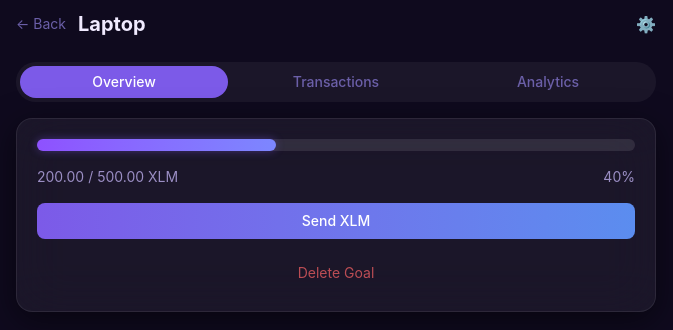
Scenario: GoalDetailPage › Transactions sekmesine geçince TransactionHistory render olur
This screenshot has width=673, height=330.
Click the button "Transactions" at [336, 82], box [232,66,440,98]
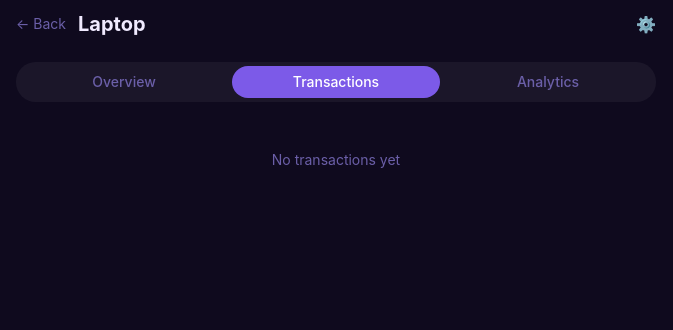
Now the text "No transactions yet" is shown, box [272,151,400,168]
